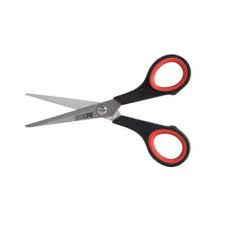tihiras: (18, 52, 194, 172)
